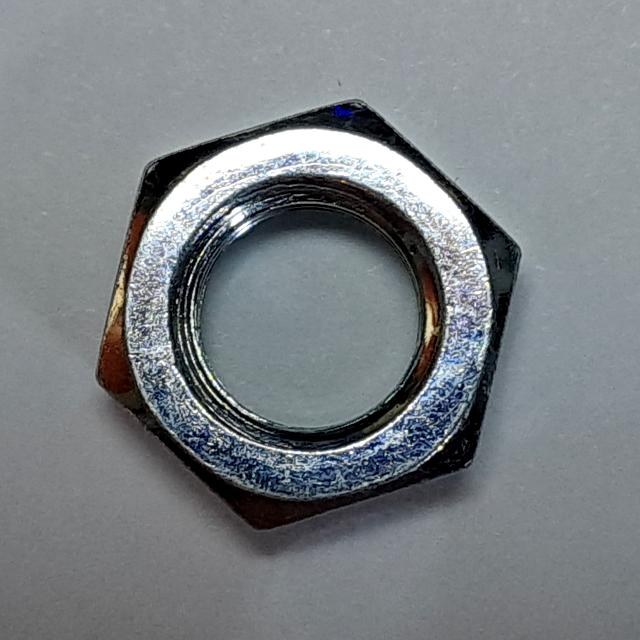Excellent: (79, 78, 549, 553)
